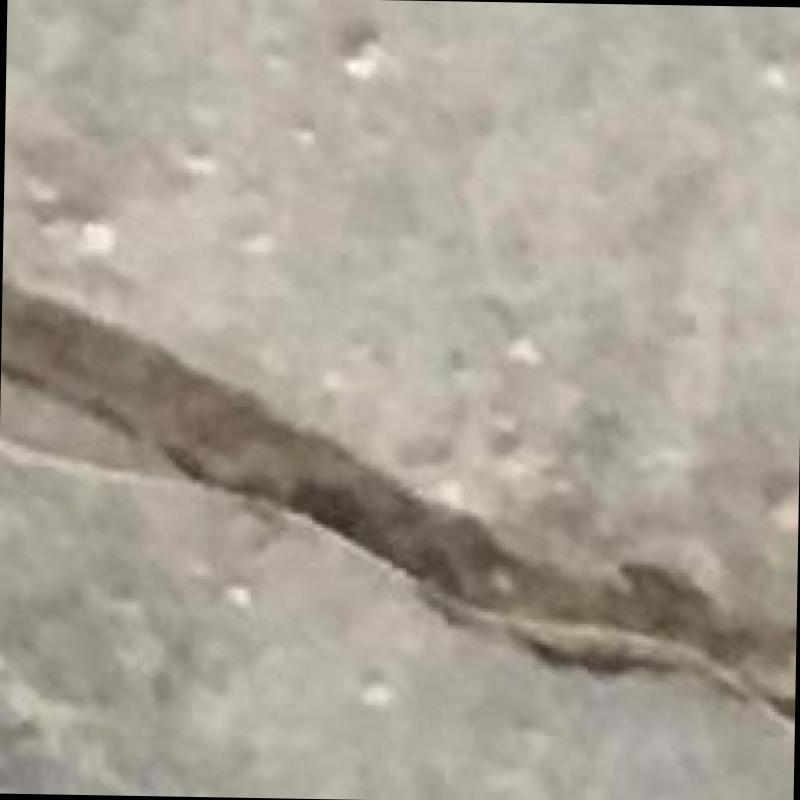pothole: (0, 282, 794, 718)
